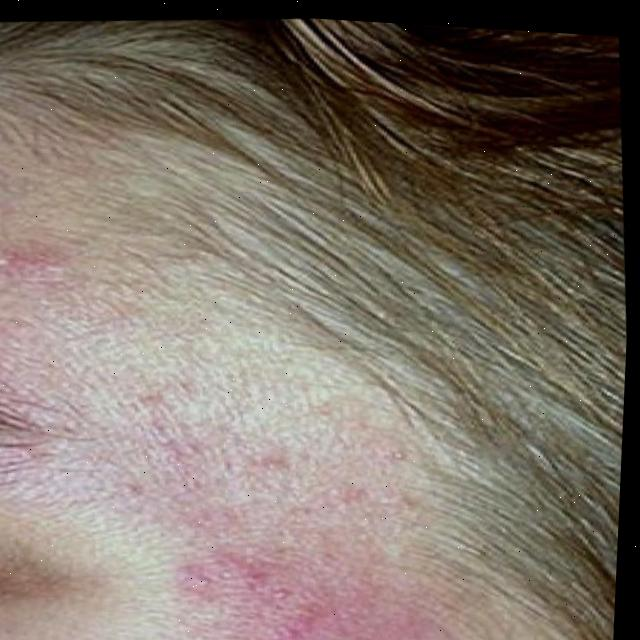Rosacea: (153, 453, 379, 640)
